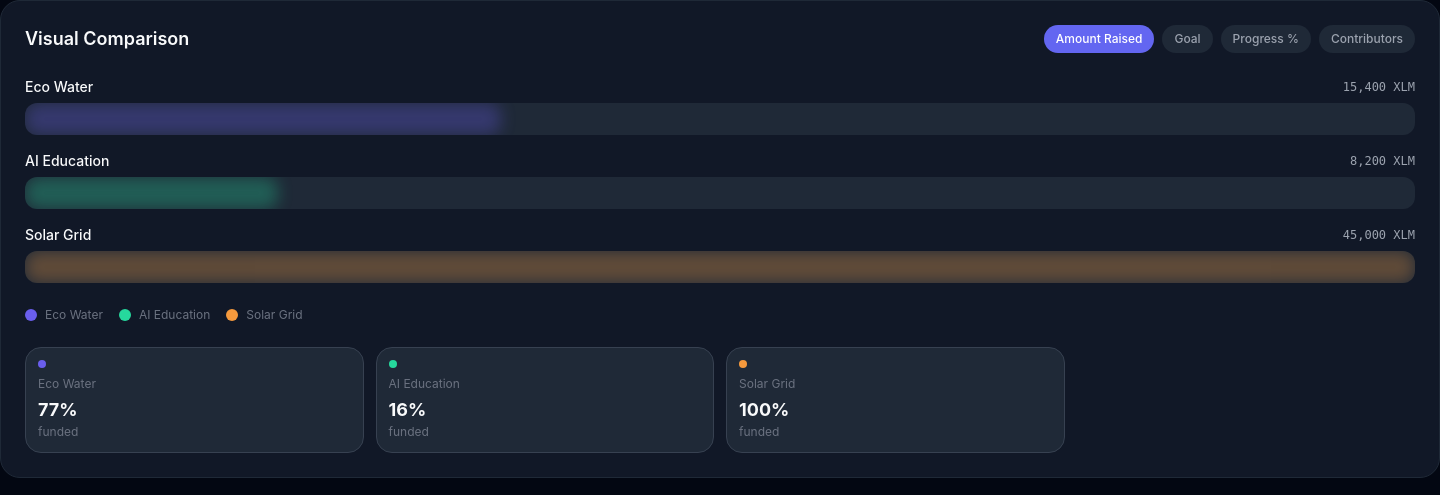
Test: ComparisonChart › shows progress percentages when Progress % metric is selected
Click the radio button "Progress %" at {"x": 1266, "y": 39}, box 1221,25 -> 1311,53
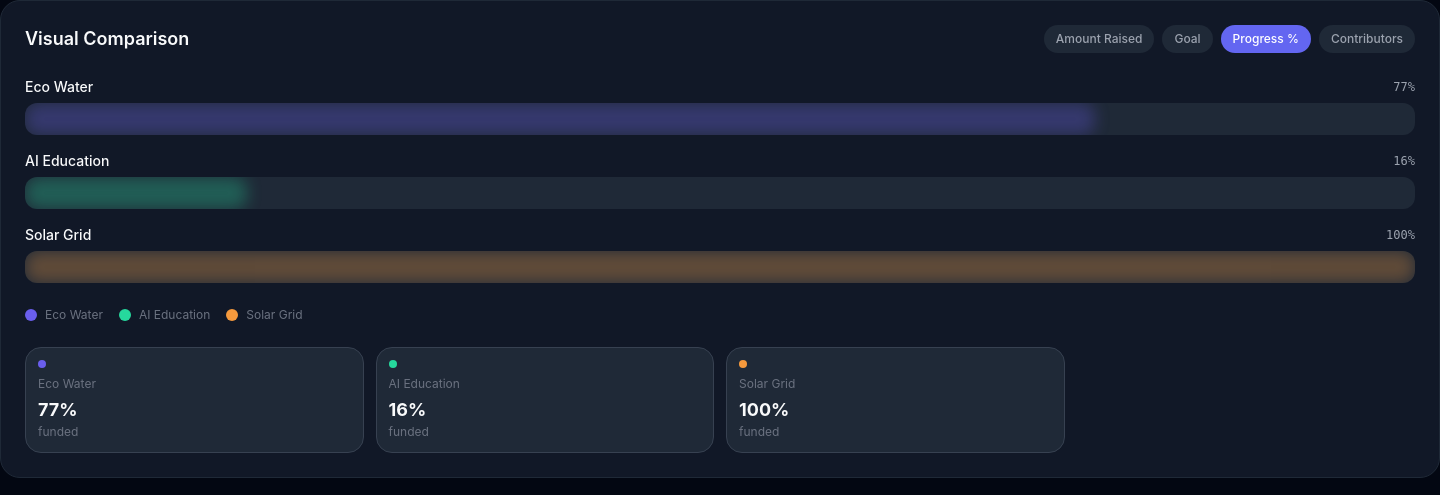
Now the text with test id "chart-value-1" reads "77%", box 1393,80 -> 1415,94
Now the text with test id "chart-value-2" reads "16%", box 1393,154 -> 1415,168
Now the text with test id "chart-value-3" reads "100%", box 1386,228 -> 1415,242
